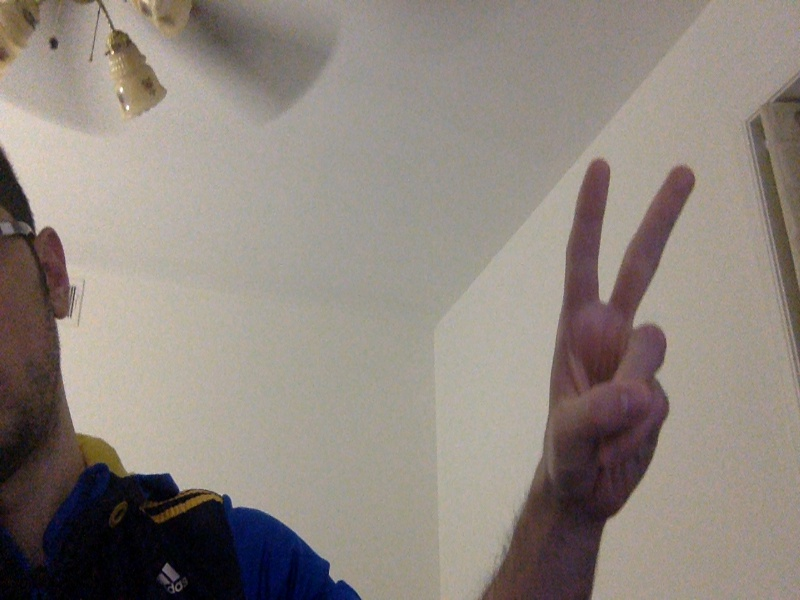2-hand: (545, 156, 695, 514)
